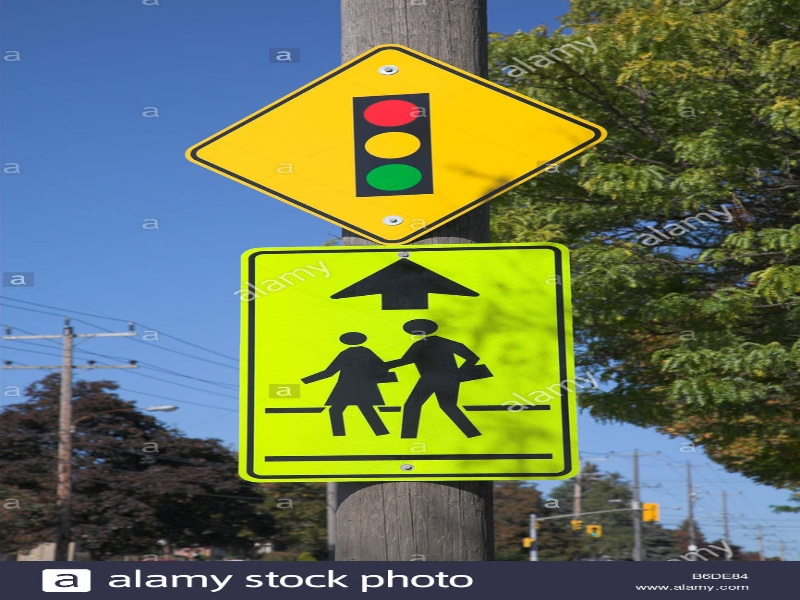traffic signal sign: (181, 41, 609, 245)
